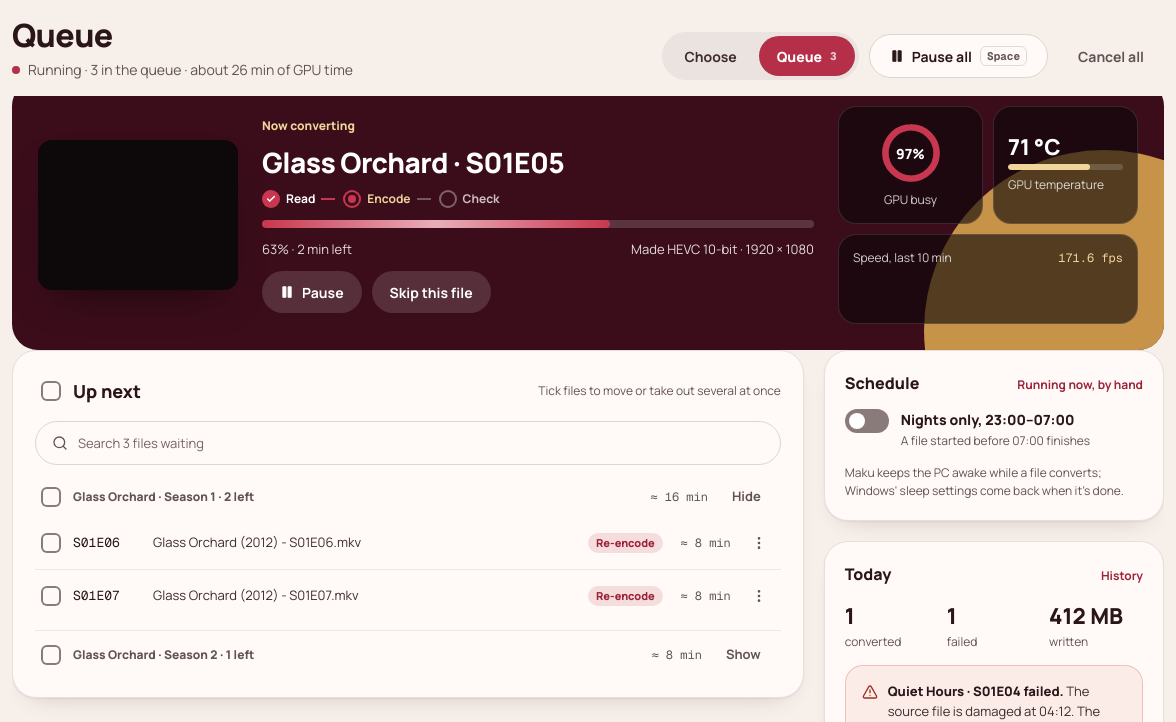
Scenario: QueuePage › ticks every file waiting at once, and unticks them
Click the checkbox named "Tick every file waiting" at (51, 391), box [41,381,61,401]
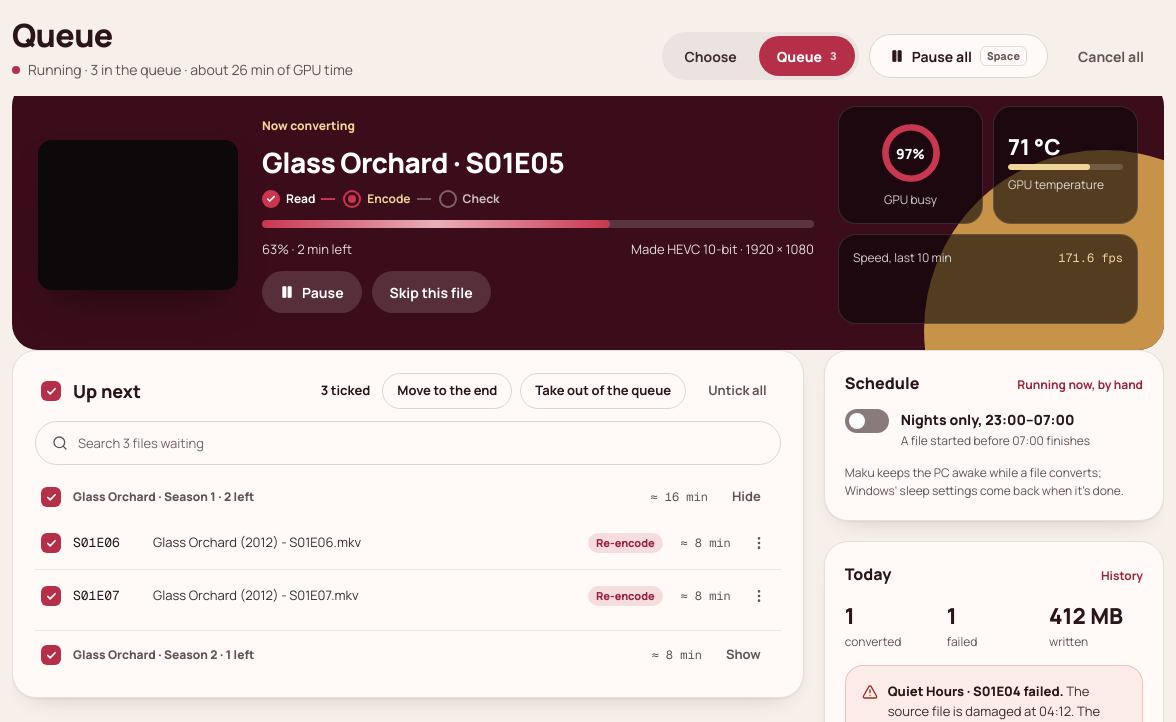
Now the checkbox named "Tick every file waiting" is checked
Now the text "3 ticked" is shown, box [321,381,370,401]
Click the checkbox named "Tick every file waiting" at (51, 391), box [41,381,61,401]
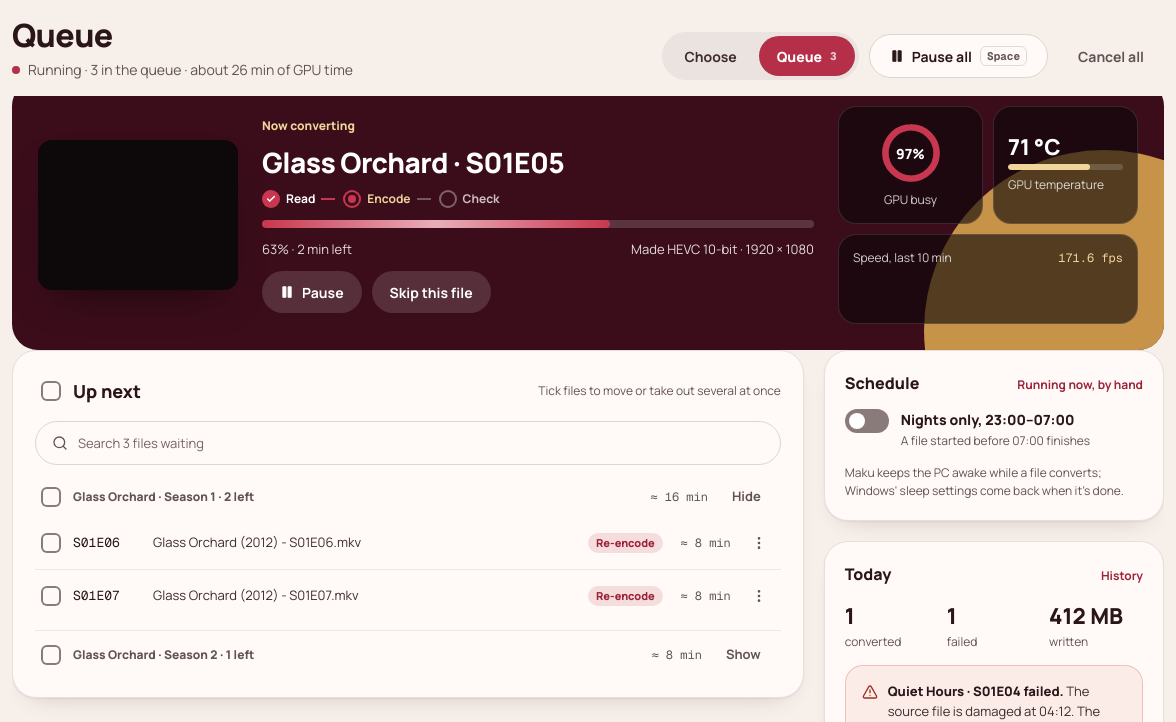
Now the text "Tick files to move or take out several at once" is shown, box [538,382,781,400]
